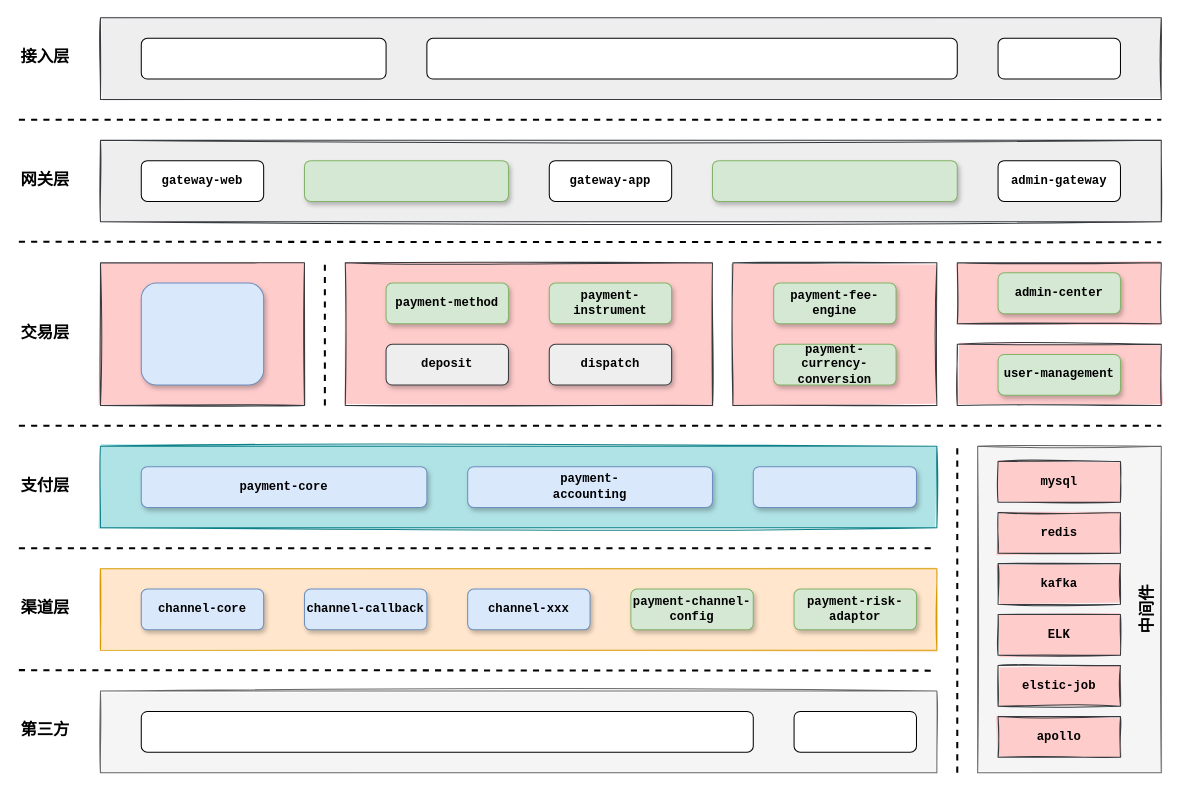
This 1180x793 diagram has some shape labels left out. Here are the shapes that lost their labels. From the top down, the centre of each, then its label:
At [263,58]: "kucoin Web".
At [691,58]: "kucoin app".
At [1058,58]: "admin web".
At [407,182]: "pci-gateway".
At [835,182]: "payment-mobile-gateway".
At [203,335]: "payment-api".
At [835,488]: "payment-notify-center".
At [446,731]: "channels".
At [854,731]: "risk".
